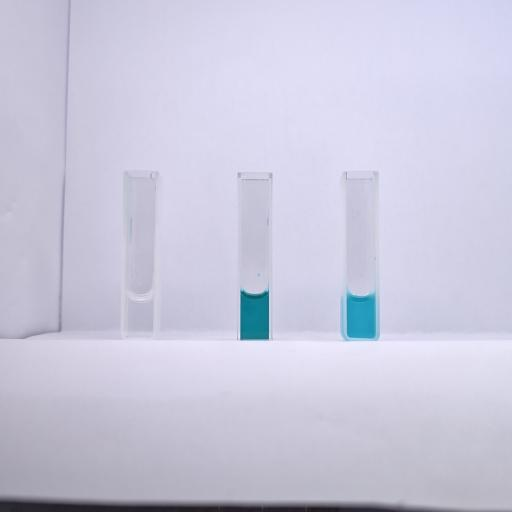cuvette: (340, 168, 382, 342), (121, 167, 161, 343), (235, 170, 275, 344)
liquid: (240, 291, 269, 340), (127, 293, 154, 337), (348, 292, 375, 336)
